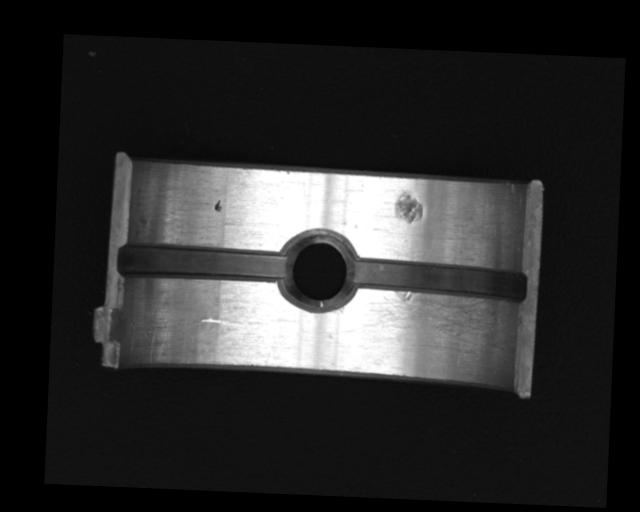bruise: (395, 189, 425, 227), (213, 197, 222, 213)
gap: (347, 256, 527, 304), (117, 243, 291, 284)
hole: (280, 227, 357, 314)
nick: (198, 317, 259, 332)
scratch: (346, 286, 506, 366)
